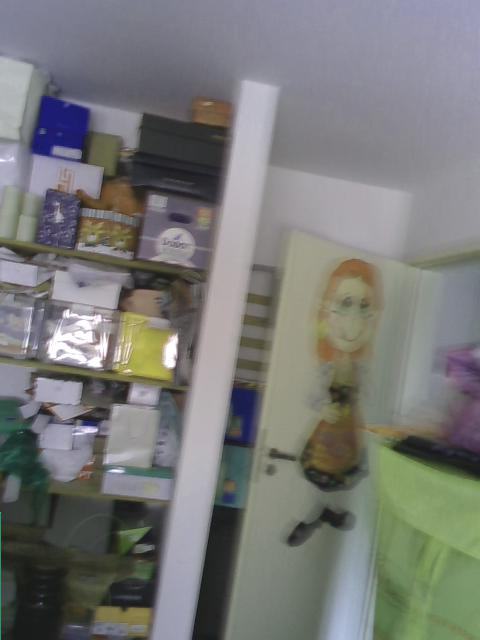open_door: (336, 247, 479, 638)
